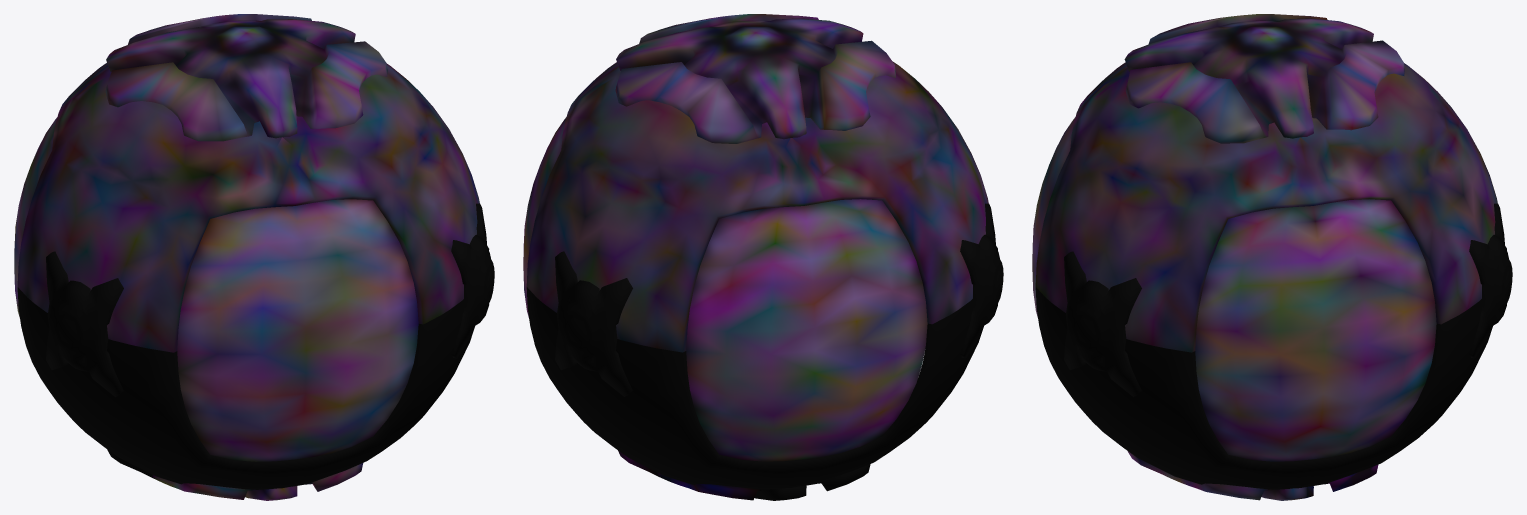
The model's file is GodBall_RL_SM.glb.
3 views of the same model, side by side, from view 1: azimuth 30°, elevation 25°; view 2: azimuth 150°, elevation 25°; view 3: azimuth 270°, elevation 25° (orthographic).
Visible parts, largest first — view 1: GodBall_RL_SM_0; view 2: GodBall_RL_SM_0; view 3: GodBall_RL_SM_0.
Boxes of the visible parts, box(x1,y1,x2,y2) form: GodBall_RL_SM_0: box(14, 14, 494, 500); GodBall_RL_SM_0: box(523, 14, 1003, 500); GodBall_RL_SM_0: box(1032, 14, 1512, 500).
Size of the model in its own units: 1.85 by 1.89 by 1.85.
Materials: 1 (1 with a texture image).
